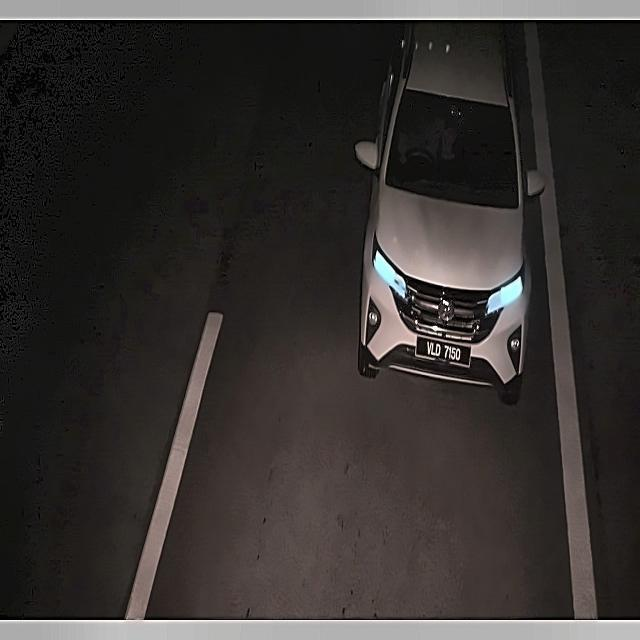car: (413, 334, 474, 368)
